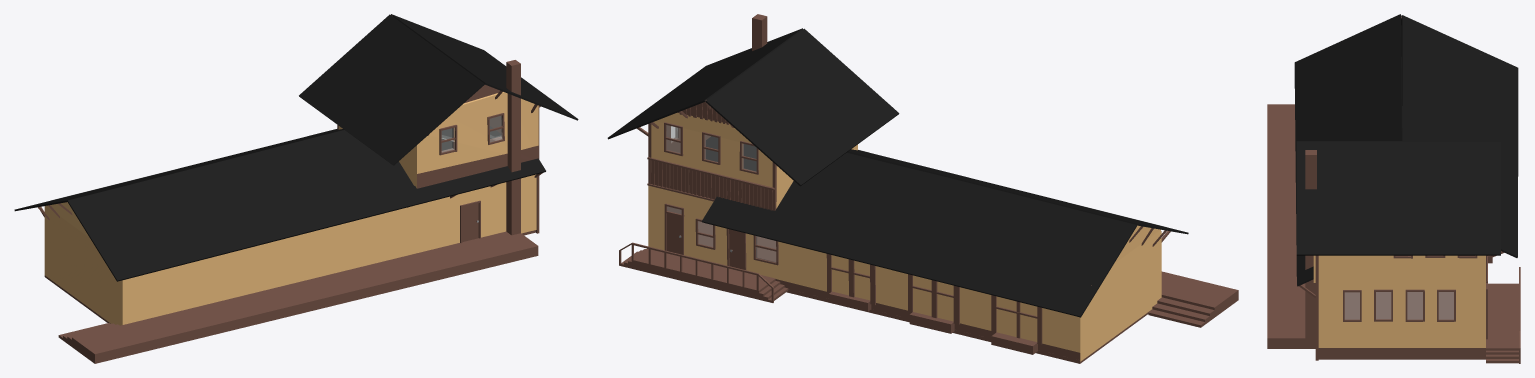
File: hotelbuilding.obj
3 views of the same model, side by side, from view 1: azimuth 30°, elevation 25°; view 2: azimuth 150°, elevation 25°; view 3: azimuth 270°, elevation 25° (orthographic). The views are drawn at different scales.
Visible parts, largest first — view 1: group860354314, group1860368108, group52442560, group355110502, group787487953, group1774303457, group393763868, group1024880651, group345262557; view 2: group345262557, group1774303457, group355110502, group787487953, group393763868, group142822231, group52442560, group860354314, group39998031, group441527044, group124677262, group635372485 (+3 smaller); view 3: group393763868, group345262557, group1774303457, group860354314, group52442560, group787487953, group142822231, group39998031, group1024880651, group1541695878.
Boxes of the visible parts, box(x1,y1,x2,y2) form: group860354314: box(67, 130, 545, 281); group1860368108: box(121, 174, 536, 325); group52442560: box(58, 231, 538, 363); group355110502: box(299, 14, 484, 165); group787487953: box(337, 85, 538, 188); group1774303457: box(44, 202, 535, 325); group393763868: box(391, 14, 578, 120); group1024880651: box(506, 60, 520, 235); group345262557: box(14, 129, 343, 211); group345262557: box(701, 152, 1136, 317); group1774303457: box(648, 185, 1160, 361); group355110502: box(705, 28, 899, 186); group787487953: box(648, 102, 857, 210); group393763868: box(607, 28, 803, 139); group142822231: box(620, 248, 788, 302); group52442560: box(1148, 271, 1238, 327); group860354314: box(847, 149, 1188, 234); group39998031: box(698, 221, 1151, 363); group441527044: box(633, 243, 773, 287); group124677262: box(991, 332, 1037, 354); group635372485: box(909, 312, 954, 333); group393763868: box(1296, 141, 1500, 255); group345262557: box(1401, 15, 1518, 257); group1774303457: box(1318, 283, 1485, 357); group860354314: box(1294, 14, 1402, 286); group52442560: box(1267, 104, 1315, 348); group787487953: box(1313, 255, 1486, 282); group142822231: box(1486, 283, 1518, 363); group39998031: box(1318, 292, 1485, 359); group1024880651: box(1305, 150, 1316, 338); group1541695878: box(1315, 255, 1318, 360).
Bounding box in the file's own units: 6.95 × 2.39 × 2.84.
